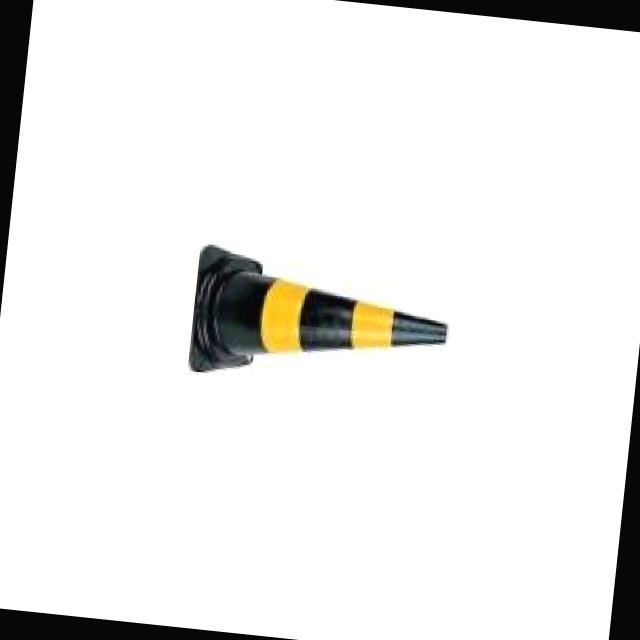cone: (185, 235, 455, 408)
